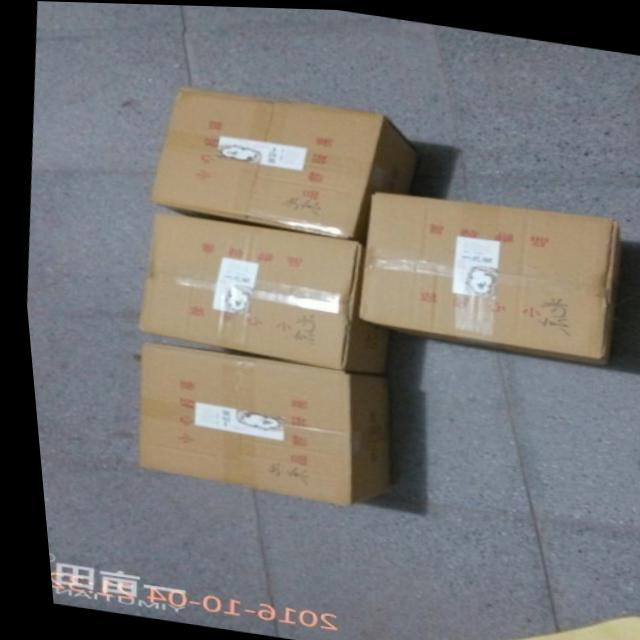box: (348, 185, 612, 362), (126, 209, 379, 373), (127, 339, 380, 502), (147, 87, 413, 235), (499, 611, 640, 640)
